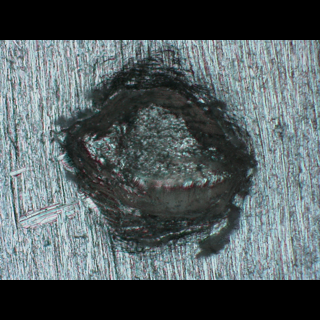d: (41, 42, 260, 267)
